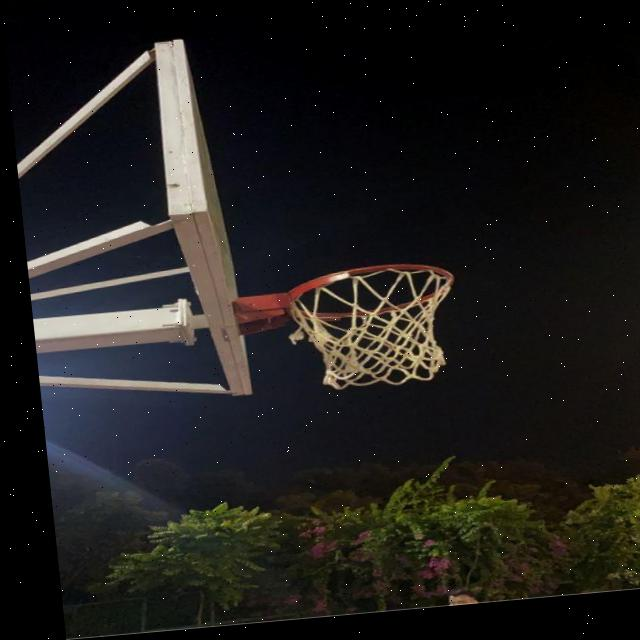hoop: (220, 247, 514, 410)
